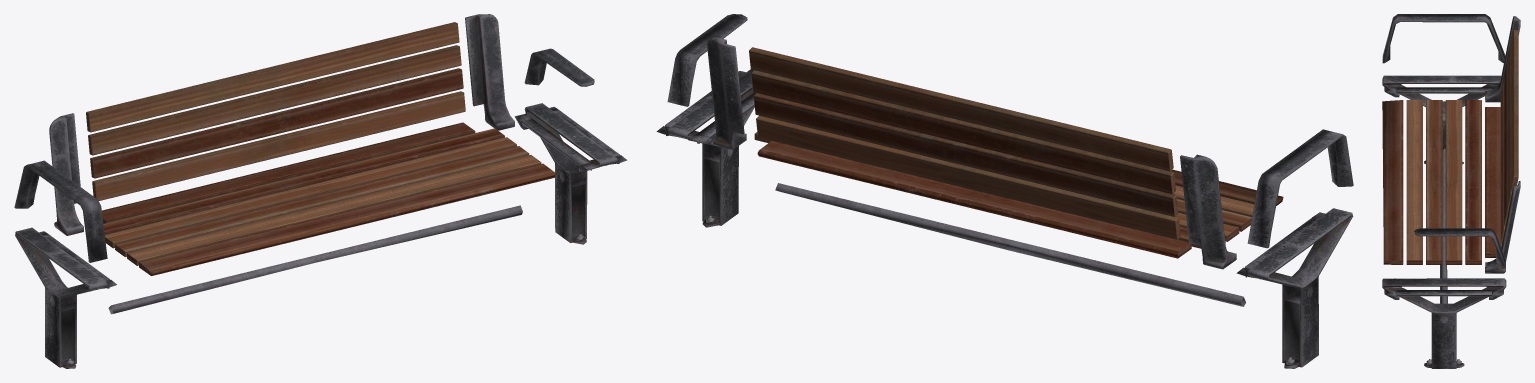
Rendered from modular_street_seating.glb.
The picture shows the model from 3 angles, left to right: view 1: azimuth 30°, elevation 25°; view 2: azimuth 150°, elevation 25°; view 3: azimuth 270°, elevation 25°; orthographic projection. The views are drawn at different scales.
Parts seen in each view (by area): view 1: seat_back, seat, legs_double, legs_single, crossbar, back_support_l, arm_rest_01, back_support_r, arm_rest_02; view 2: seat_back, seat, legs_single, legs_double, crossbar, back_support_r, arm_rest_01, back_support_l, arm_rest_02; view 3: seat, legs_double, seat_back, legs_single, arm_rest_01, arm_rest_02, back_support_l, crossbar, back_support_r.
Boxes of the visible parts, box(x1,y1,x2,y2) form: seat_back: box(86, 22, 465, 200); seat: box(102, 122, 555, 275); legs_double: box(514, 103, 627, 244); legs_single: box(15, 227, 116, 368); crossbar: box(108, 205, 522, 314); back_support_l: box(465, 14, 514, 130); arm_rest_01: box(14, 160, 107, 262); back_support_r: box(49, 113, 83, 235); arm_rest_02: box(524, 48, 594, 86); seat_back: box(749, 47, 1180, 239); seat: box(754, 132, 1283, 258); legs_single: box(1236, 208, 1353, 368); legs_double: box(656, 69, 756, 227); crossbar: box(775, 183, 1245, 306); back_support_r: box(1180, 154, 1236, 269); arm_rest_01: box(1247, 129, 1353, 248); back_support_l: box(707, 37, 746, 149); arm_rest_02: box(667, 14, 747, 106); seat: box(1382, 100, 1501, 264); legs_double: box(1382, 278, 1506, 368); seat_back: box(1500, 29, 1518, 243); legs_single: box(1382, 75, 1501, 164); arm_rest_01: box(1382, 14, 1505, 63); arm_rest_02: box(1414, 228, 1505, 265); back_support_l: box(1485, 181, 1520, 273); crossbar: box(1440, 148, 1447, 303); back_support_r: box(1485, 16, 1520, 102).
Size of the model in its own units: 2.45 by 0.8665 by 0.6704.
3 materials, 3 textured.
